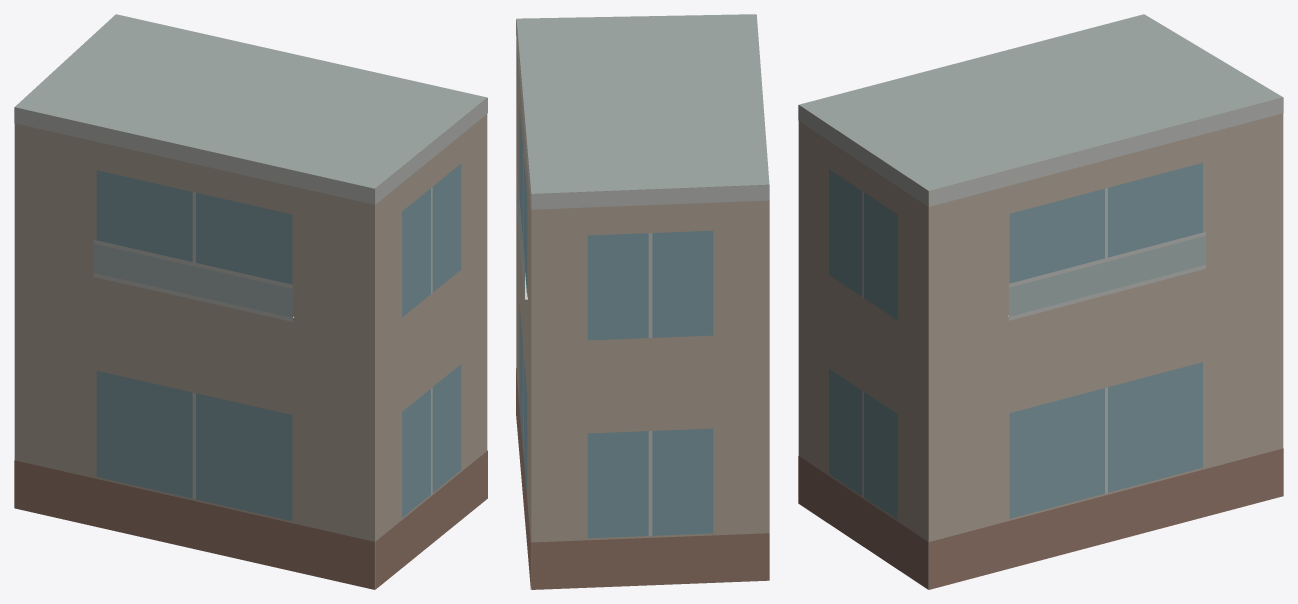
Rendered from survey-upis-32763074.glb.
3 renders of one model, left to right at view 1: azimuth 30°, elevation 25°; view 2: azimuth 150°, elevation 25°; view 3: azimuth 270°, elevation 25°, orthographic.
Parts seen in each view (by area): view 1: survey-upis-32763074.tmp; view 2: survey-upis-32763074.tmp; view 3: survey-upis-32763074.tmp.
Boxes of the visible parts, box(x1,y1,x2,y2) form: survey-upis-32763074.tmp: box(14, 14, 487, 589); survey-upis-32763074.tmp: box(516, 14, 769, 589); survey-upis-32763074.tmp: box(798, 14, 1283, 589).
Size of the model in its own units: 5.82 by 6.1 by 6.73.
